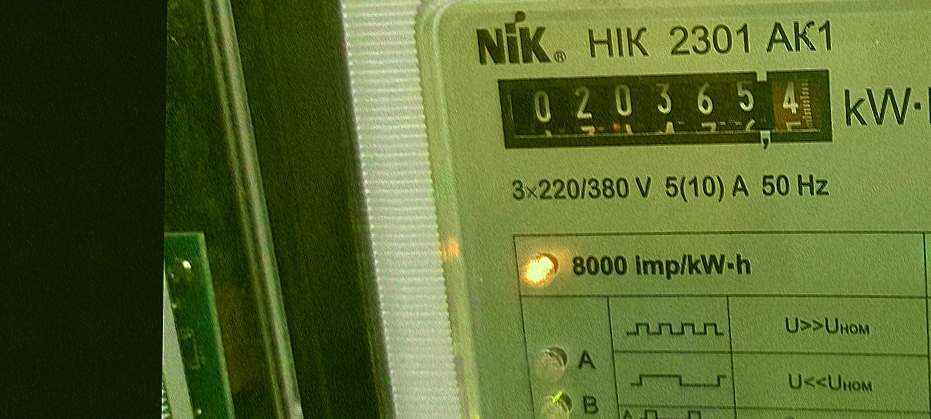0: (531, 88, 552, 123), (613, 81, 632, 118)
2: (570, 84, 593, 120)
3: (653, 79, 672, 114)
4: (780, 79, 799, 114)
5: (734, 79, 755, 111)
6: (694, 79, 714, 115)
screen: (480, 54, 850, 162)
